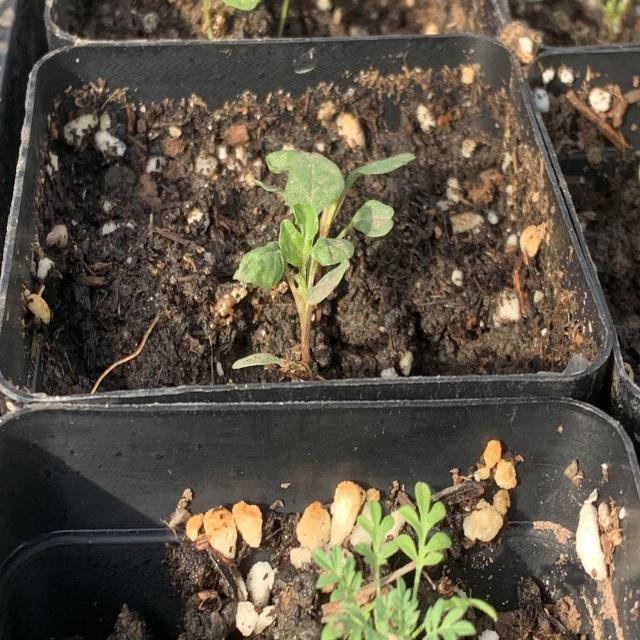pigweed: (226, 138, 408, 357)
